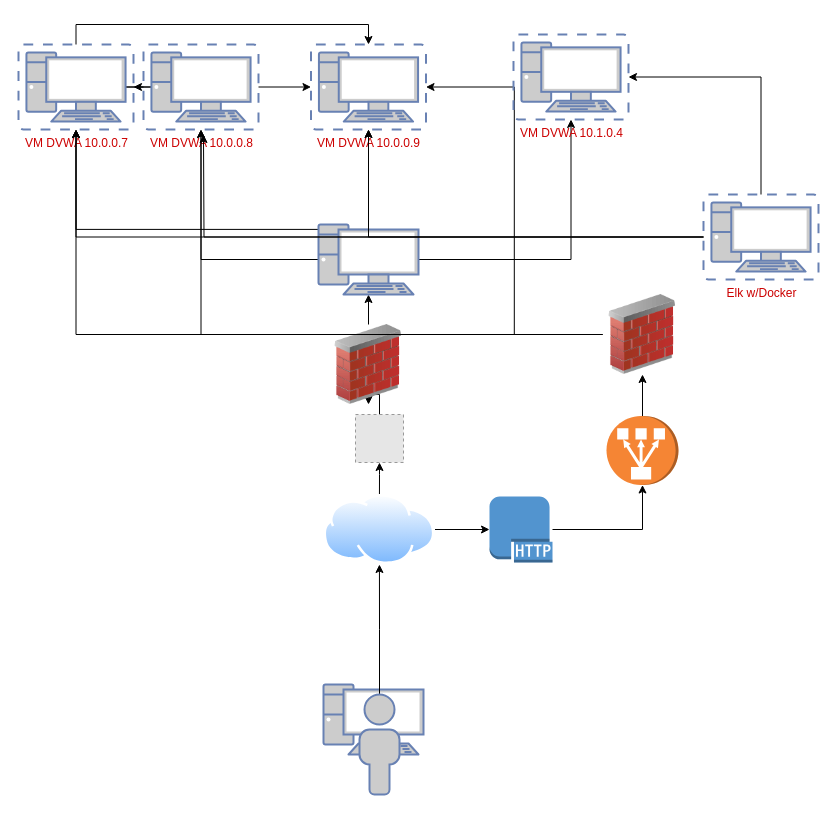
This 836x833 diagram has some shape labels left out. Grey dashed boxes stand in for pictures. Here are the shapes that lost their labels. From the top down, the centre of each, then its label:
At (x=368, y=259): "JumpBox".
At (x=642, y=450): "load Balancer".
At (x=379, y=744): "Local Station".
